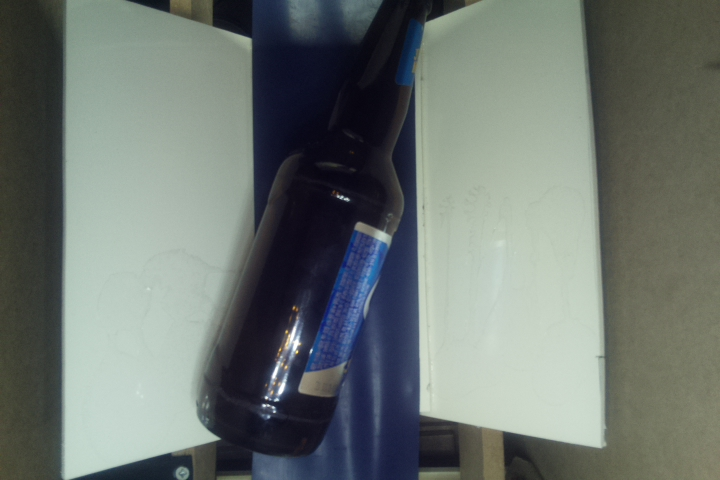makju: (192, 1, 432, 455)
